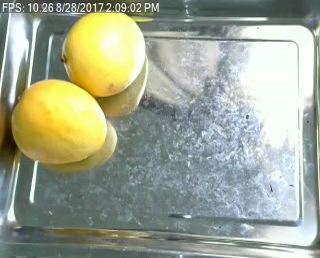Mango: (12, 79, 107, 164), (59, 9, 145, 97)
